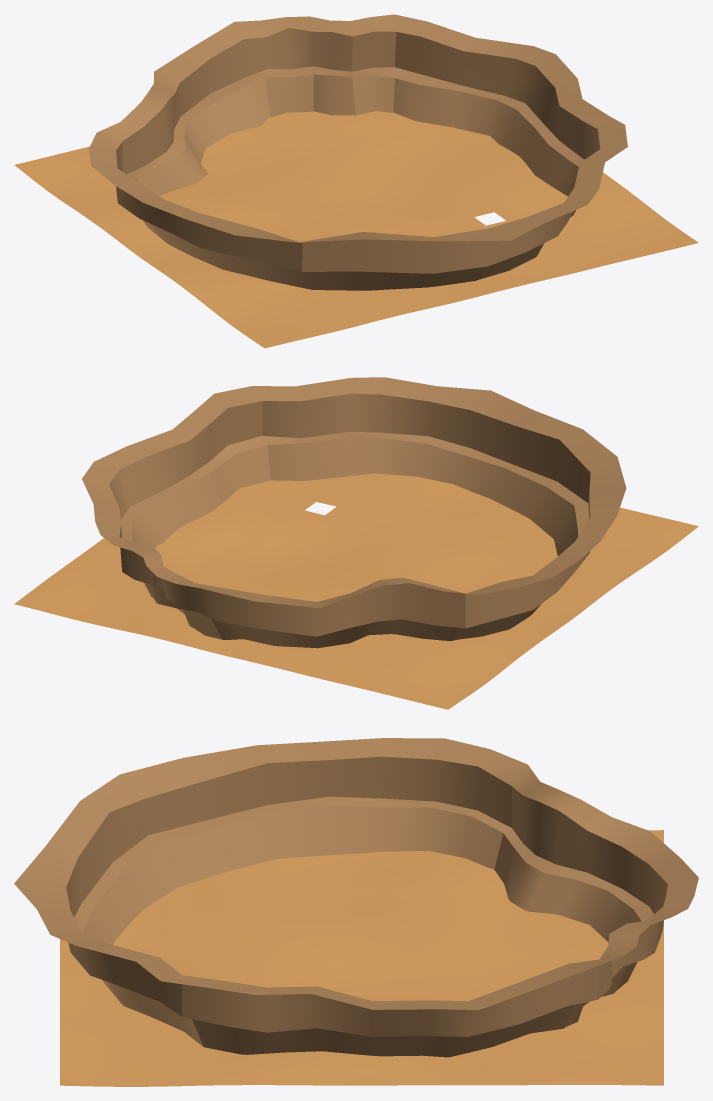
Rendered from desert.glb.
3 renders of one model, top to bottom at view 1: azimuth 30°, elevation 25°; view 2: azimuth 150°, elevation 25°; view 3: azimuth 270°, elevation 25°, orthographic. The views are drawn at different scales.
Parts seen in each view (by area): view 1: Desert_wall, Floor; view 2: Desert_wall, Floor; view 3: Desert_wall, Floor.
Boxes of the visible parts, <box> form: Desert_wall: <box>89,14,627,290</box>; Floor: <box>14,111,698,348</box>; Desert_wall: <box>82,377,626,648</box>; Floor: <box>14,473,698,709</box>; Desert_wall: <box>14,738,698,1057</box>; Floor: <box>60,830,663,1086</box>.
Bounding box in the file's own units: 214 × 37.45 × 227.
